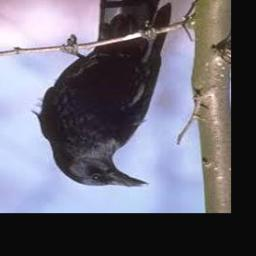Crow: (32, 0, 171, 187)
